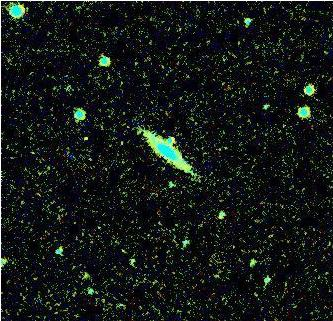star: (68, 122, 98, 152)
